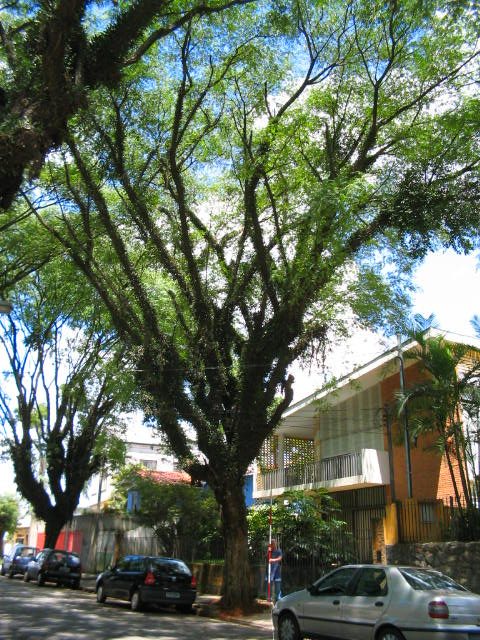crown: (17, 5, 477, 305)
stem: (207, 483, 264, 605), (35, 527, 66, 574)
stick: (264, 489, 278, 606)
tree: (14, 2, 477, 606), (2, 243, 178, 574)
